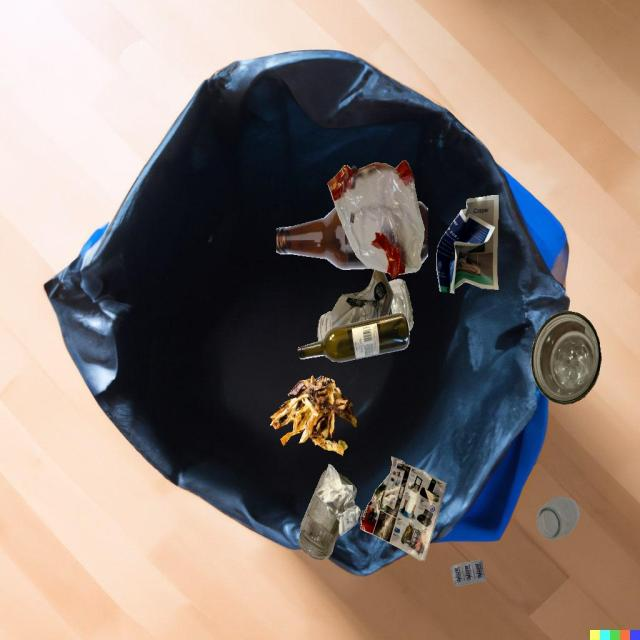biowaste: (270, 375, 357, 456)
glass: (531, 311, 601, 405), (276, 207, 371, 270), (298, 313, 410, 362), (325, 284, 390, 355), (298, 469, 339, 560), (537, 497, 579, 540), (388, 279, 413, 331)
paper: (360, 456, 446, 560), (436, 195, 499, 293), (330, 269, 393, 329), (316, 464, 361, 536)
plastic: (327, 160, 424, 279), (451, 559, 486, 586)
